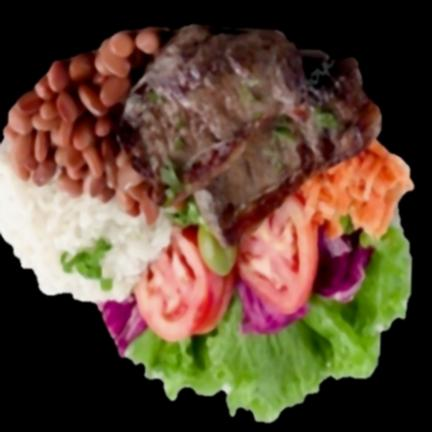beans: (5, 30, 173, 217)
carrot: (298, 144, 410, 242)
meat: (123, 23, 380, 246)
rice: (0, 139, 177, 298)
salad: (127, 210, 414, 420)
tomato: (133, 192, 320, 340)
